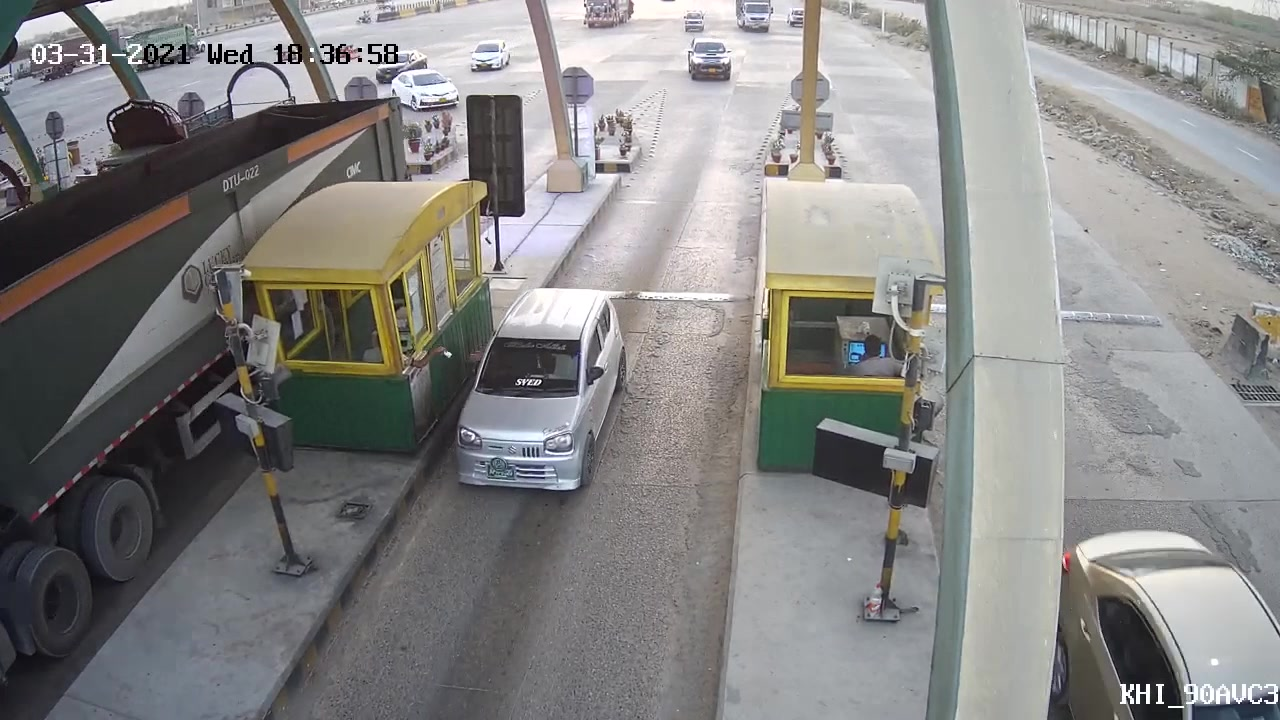F1: (446, 282, 636, 506)
